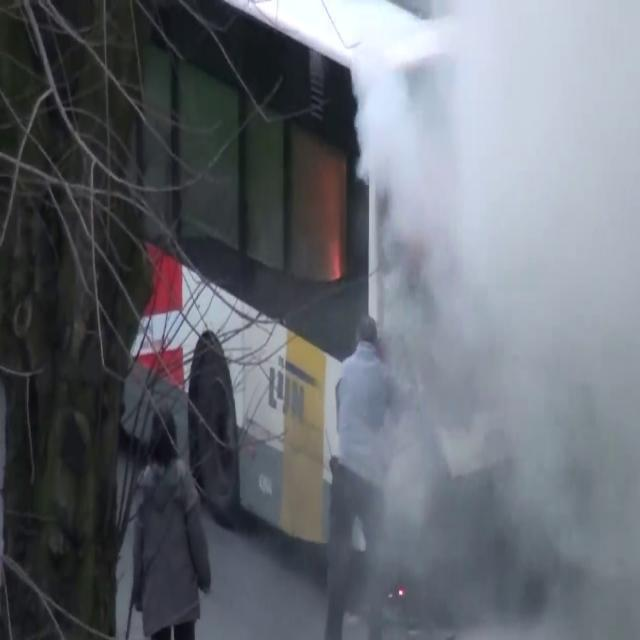Smoke: (324, 0, 640, 632)
